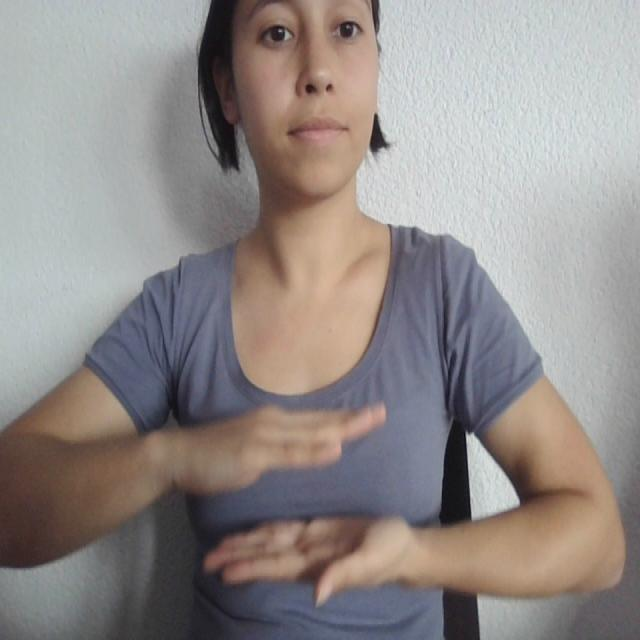Arkadas: (78, 399, 488, 613)
